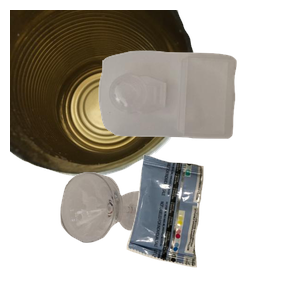glass: (58, 170, 202, 300)
metal: (10, 10, 200, 180)
plastic: (96, 48, 300, 179)
trash: (124, 152, 300, 300)
